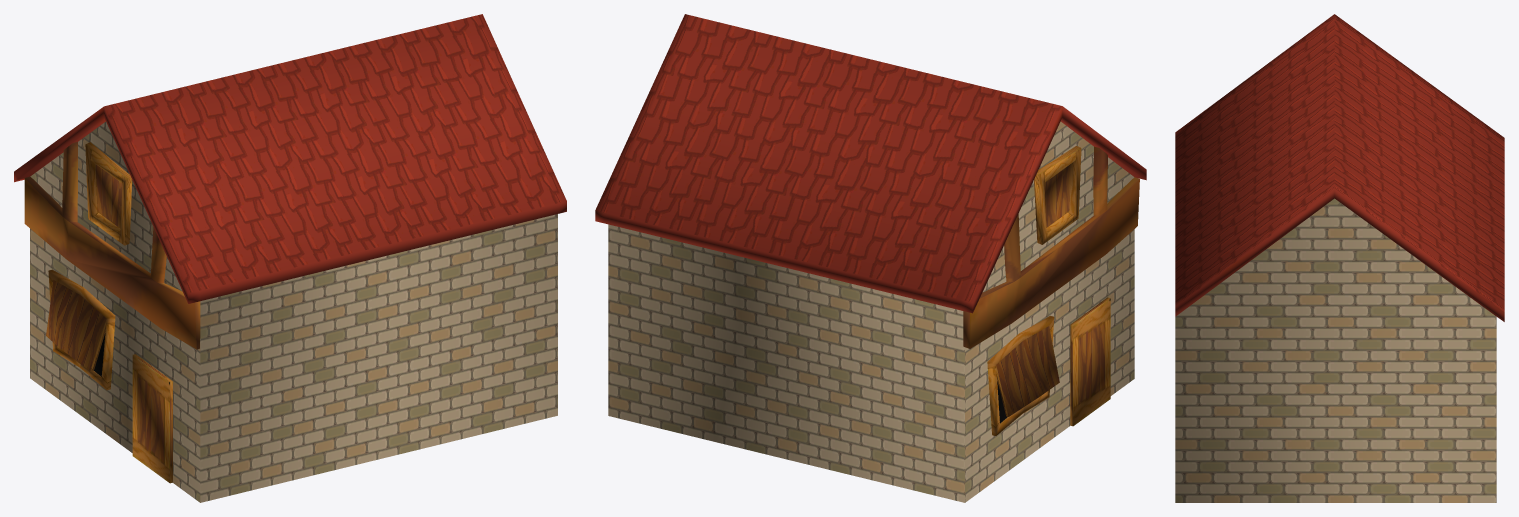
File: townhouse.fbx
3 renders of one model, left to right at view 1: azimuth 30°, elevation 25°; view 2: azimuth 150°, elevation 25°; view 3: azimuth 270°, elevation 25°, orthographic. The views are drawn at different scales.
Visible parts, largest first — view 1: Plane_003, Plane_006, Plane_001; view 2: Plane_006, Plane_003, Plane_001; view 3: Plane_003, Plane_006.
Boxes of the visible parts, bbox=[...] form: Plane_003: bbox=[30, 121, 557, 502]; Plane_006: bbox=[14, 14, 566, 303]; Plane_001: bbox=[24, 142, 200, 483]; Plane_006: bbox=[595, 14, 1146, 313]; Plane_003: bbox=[608, 121, 1134, 502]; Plane_001: bbox=[963, 146, 1139, 435]; Plane_003: bbox=[1175, 198, 1496, 502]; Plane_006: bbox=[1175, 14, 1504, 321].
Bounding box in the file's own units: 3.29 × 2.74 × 2.56.
